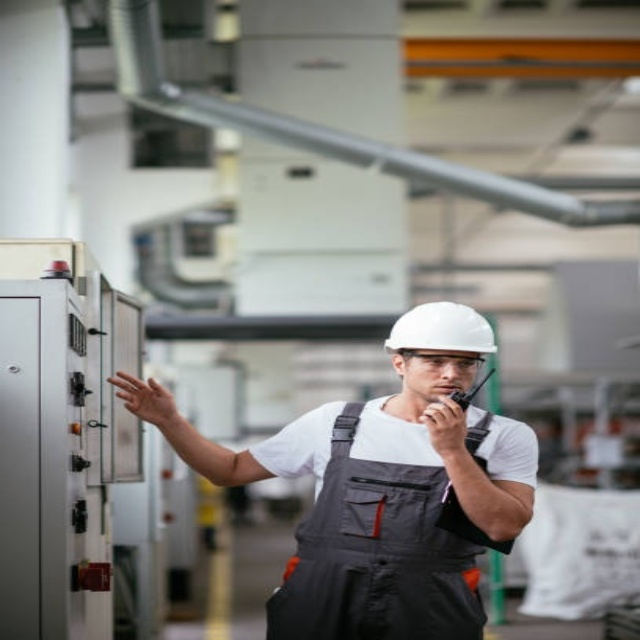Gafas: (400, 352, 487, 375)
Sin_guantes: (104, 369, 182, 424), (419, 392, 467, 444)
Sin_mascara: (433, 385, 463, 393)
